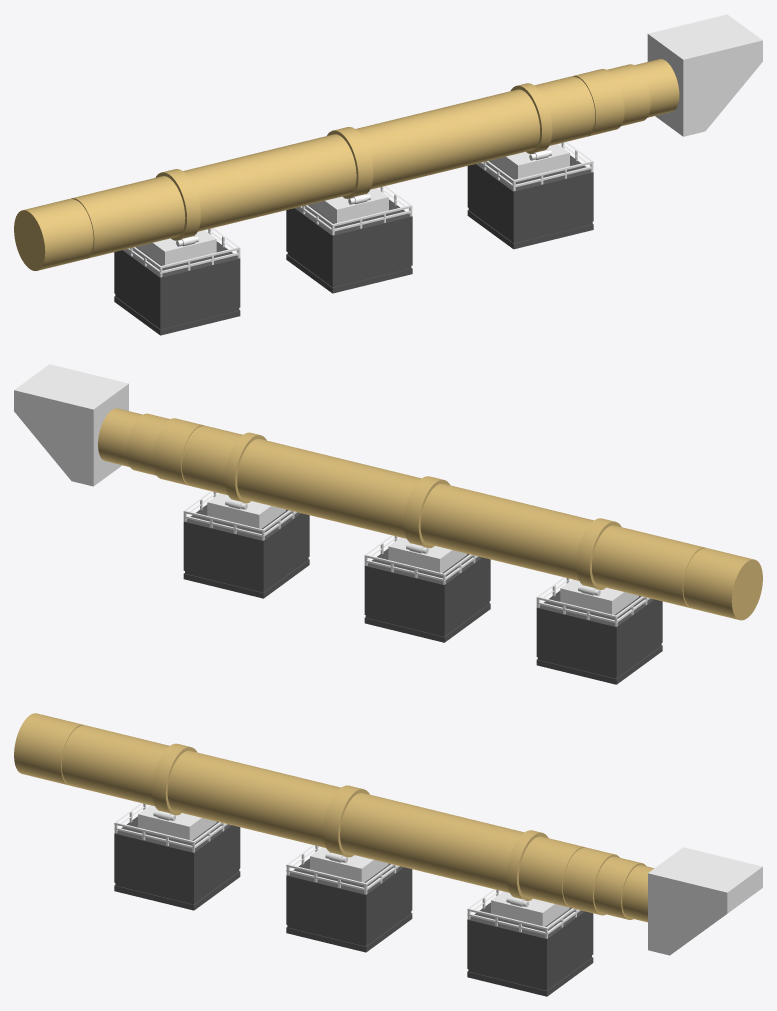
The model's file is module.gltf.
3 renders of one model, top to bottom at view 1: azimuth 30°, elevation 25°; view 2: azimuth 150°, elevation 25°; view 3: azimuth 330°, elevation 25°, orthographic.
Visible parts, largest first — view 1: 圆柱, 立方体.1 (×3), 立方体, 立方体.2 (×3); view 2: 圆柱, 立方体.1 (×3), 立方体, 立方体.2 (×3); view 3: 圆柱, 立方体.1 (×3), 立方体, 立方体.2 (×3).
Part boxes in pixels (left/top/right/bottom): 圆柱: left=14, top=59, right=679, bottom=270; 立方体.1 (×3): left=114, top=155, right=593, bottom=335; 立方体: left=647, top=14, right=762, bottom=136; 立方体.2 (×3): left=138, top=144, right=569, bottom=265; 圆柱: left=98, top=408, right=762, bottom=620; 立方体.1 (×3): left=183, top=504, right=662, bottom=684; 立方体: left=14, top=364, right=128, bottom=486; 立方体.2 (×3): left=207, top=493, right=638, bottom=614; 圆柱: left=14, top=713, right=653, bottom=922; 立方体.1 (×3): left=114, top=816, right=593, bottom=996; 立方体: left=648, top=847, right=762, bottom=955; 立方体.2 (×3): left=138, top=805, right=569, bottom=926.
Bounding box in the file's own units: 1217 × 232 × 136.
